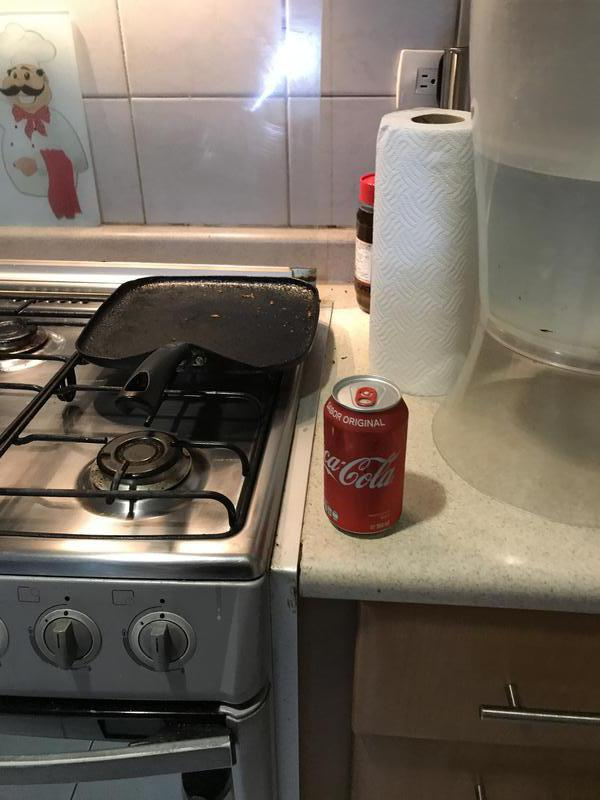coca_cola: (321, 377, 405, 537)
